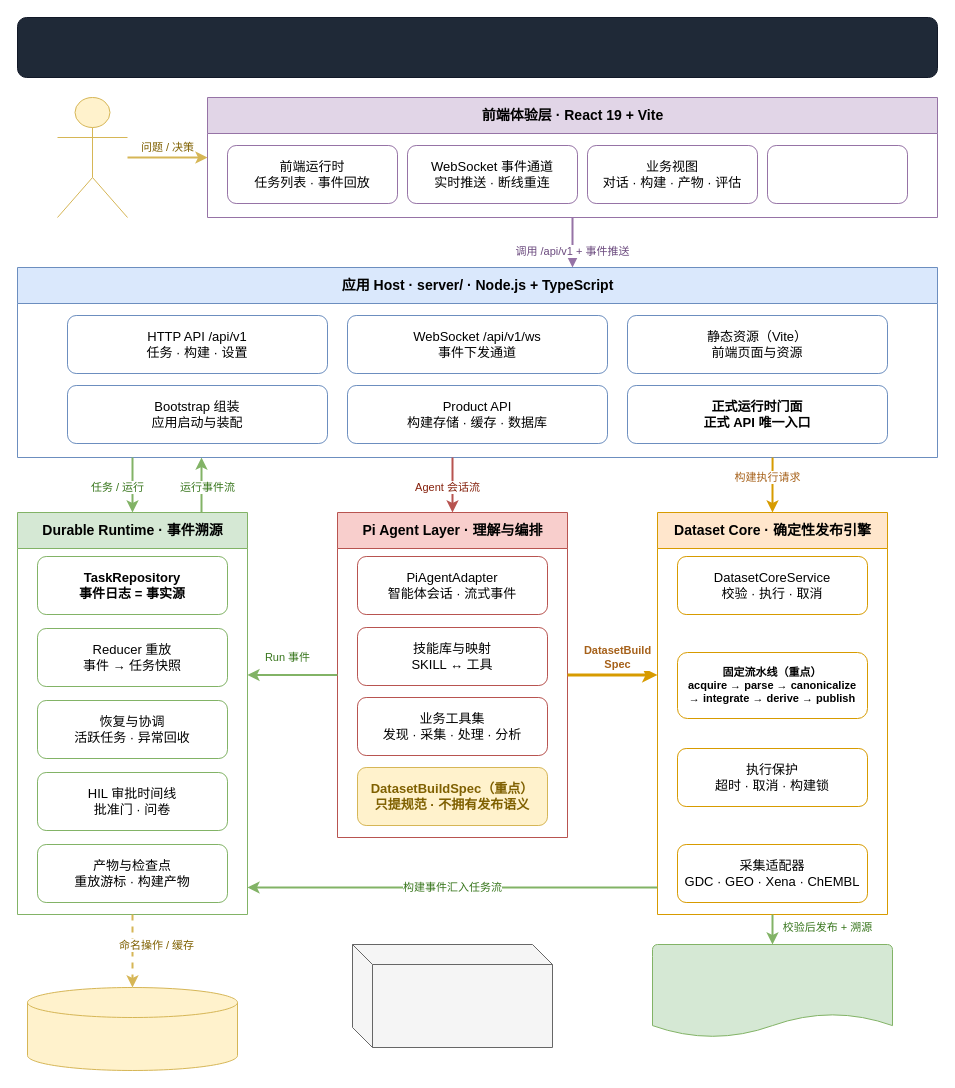
The diagram is 955 pixels wide and 1088 high, and some of its shapes have lost their labels. Here are the shapes that lost their labels. From the top down, the centre of each, then its label:
point (477, 47): BioMed-QAgent 系统架构
point (92, 157): 科研用户 自然语言问题 / HIL 决策
point (837, 174): API 客户端 类型化调用 /api/v1
point (452, 996): 共享契约层 @biomed/contracts server / frontend 共用
point (772, 991): Formal Dataset Publication 数据集 + Provenance NO_DATA = 显式业务结果
point (132, 1028): Python 持久化桥 JSONL 命名操作
